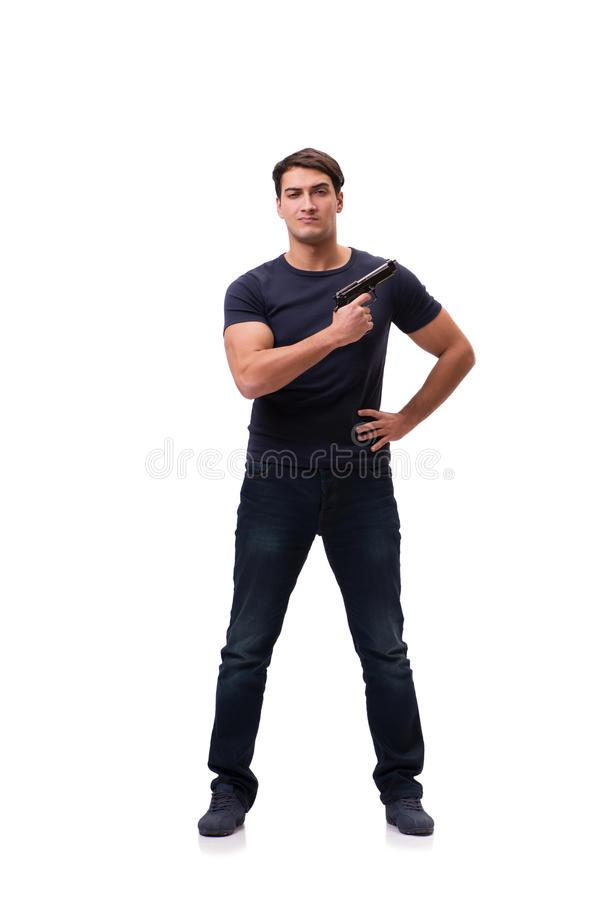criminal: (194, 144, 480, 843)
weapon: (325, 256, 402, 321)
